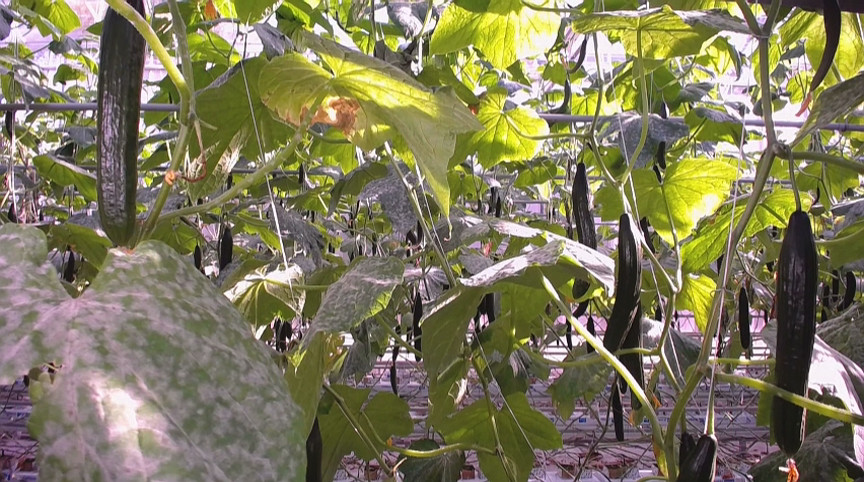cucumber: (96, 1, 146, 248), (772, 209, 819, 457), (603, 213, 638, 354), (808, 1, 846, 93), (572, 163, 596, 300), (680, 434, 720, 482), (736, 288, 751, 350), (835, 270, 858, 310), (413, 294, 425, 364), (218, 225, 234, 271)
